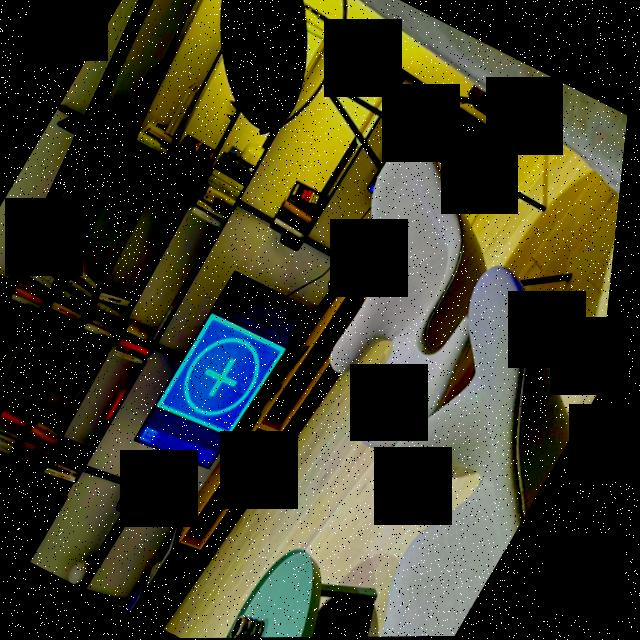Marker: (161, 311, 295, 442)
